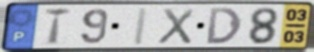8: (248, 6, 281, 46)
9: (78, 8, 110, 46)
D: (205, 7, 243, 46)
I: (131, 7, 151, 47)
T: (42, 7, 73, 47)
X: (156, 7, 196, 46)
